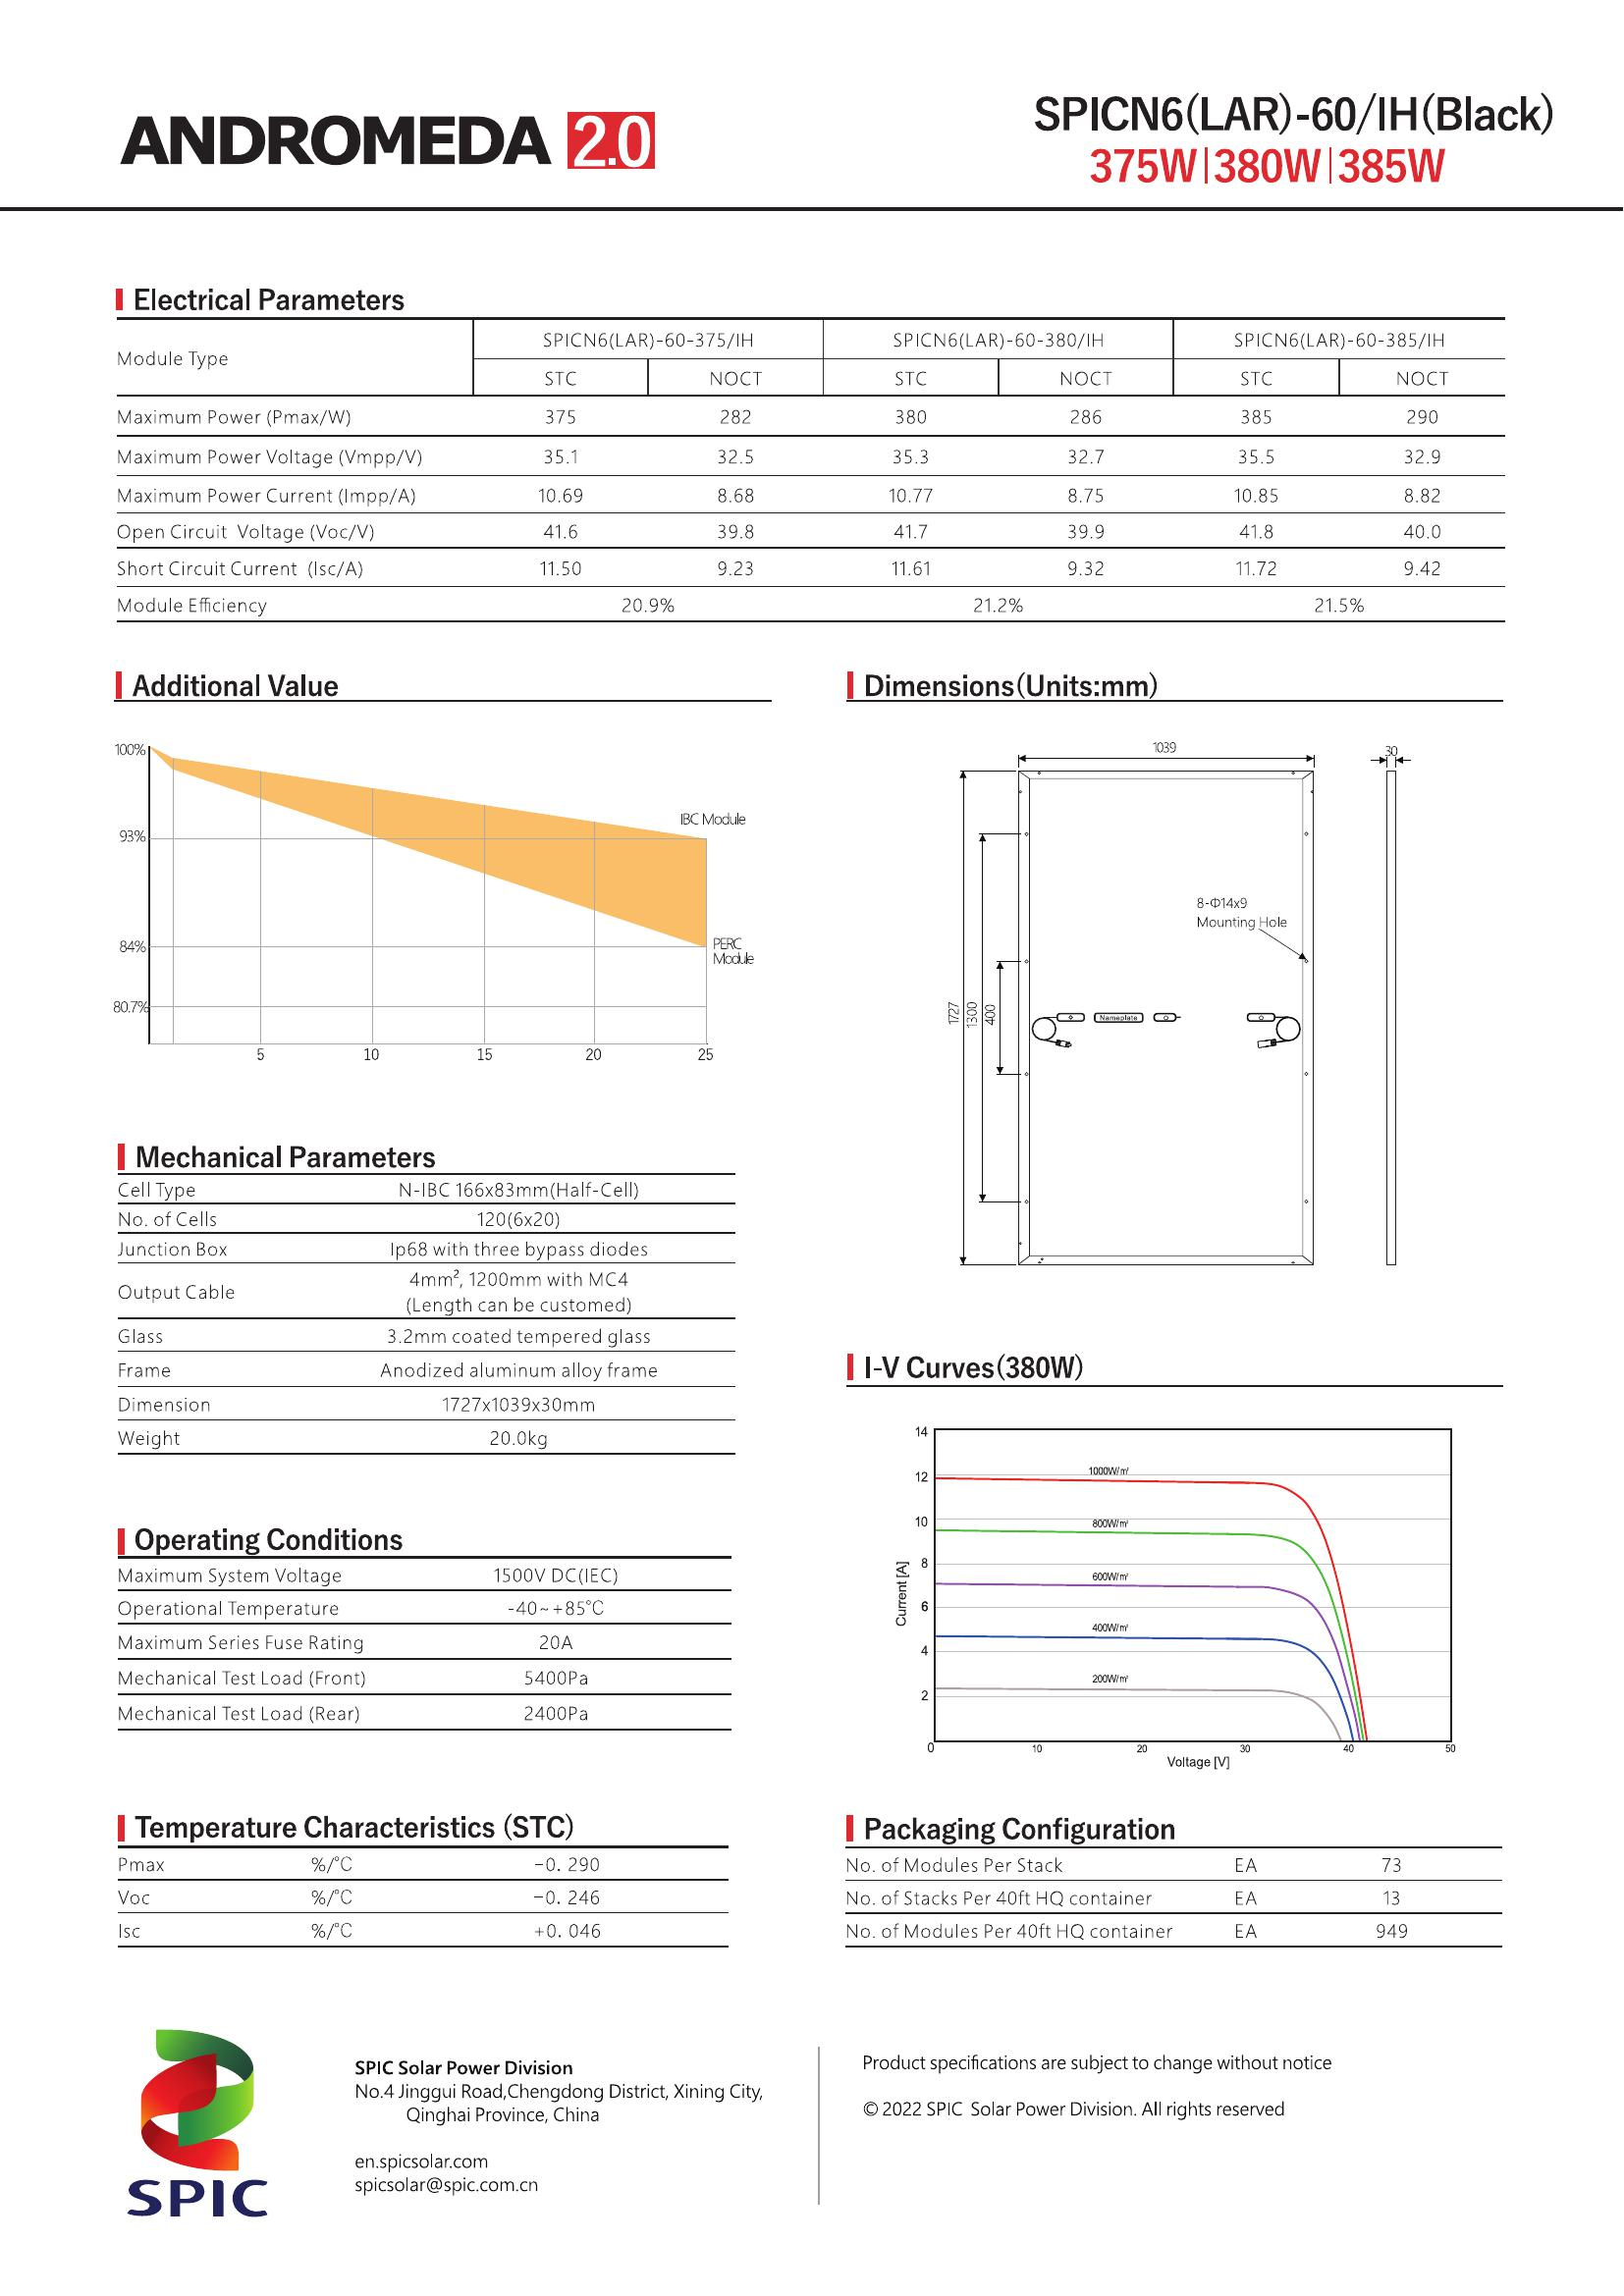table: (107, 311, 1524, 645), (109, 1166, 756, 1472), (105, 1549, 756, 1746), (833, 1841, 1517, 1964), (107, 1841, 745, 1957)
